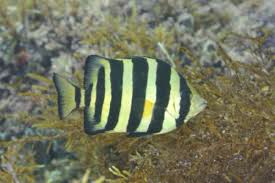azi: (54, 50, 208, 138)
